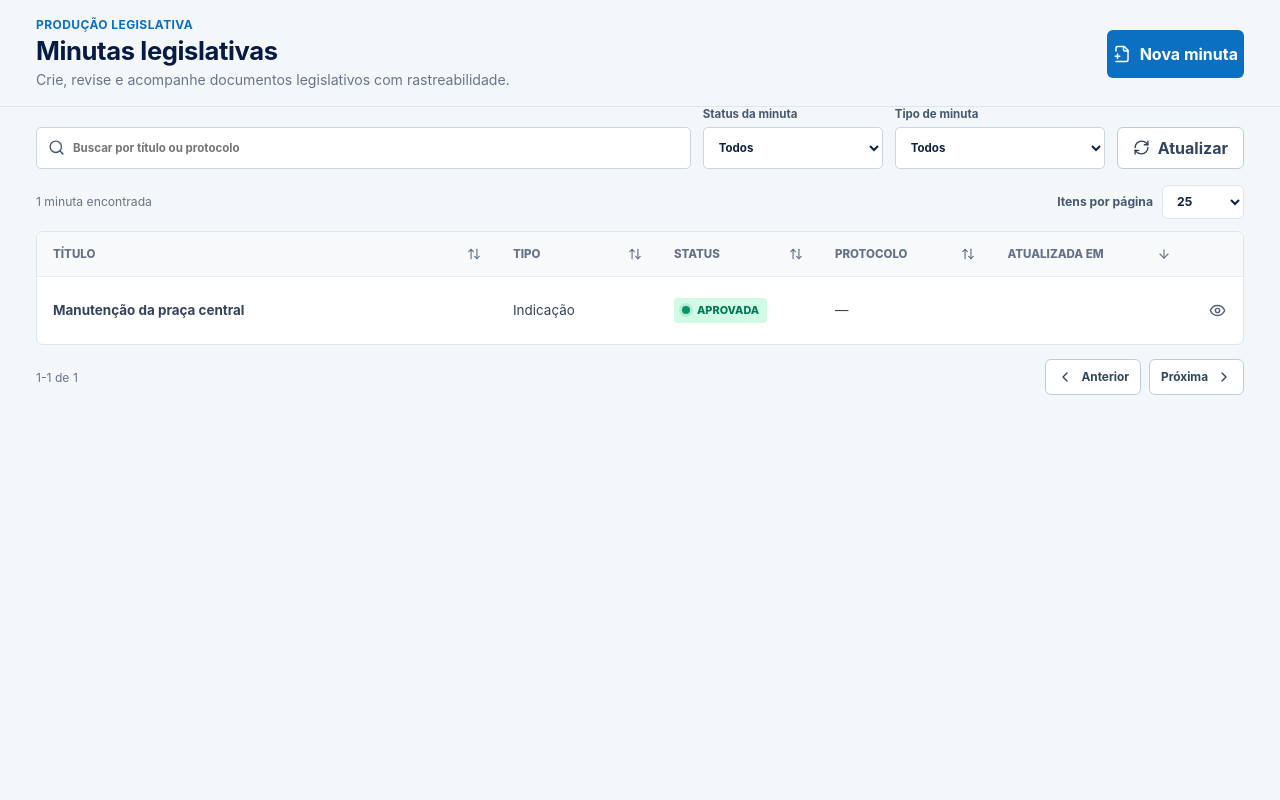
Test case: apresenta minuta, fundamentação pendente e protocolo somente manual
The width and height of the screenshot is (1280, 800).
Step 1. Click the text "Manutenção da praça central" → [149, 310], box [53, 302, 244, 318]
(page scrolled)
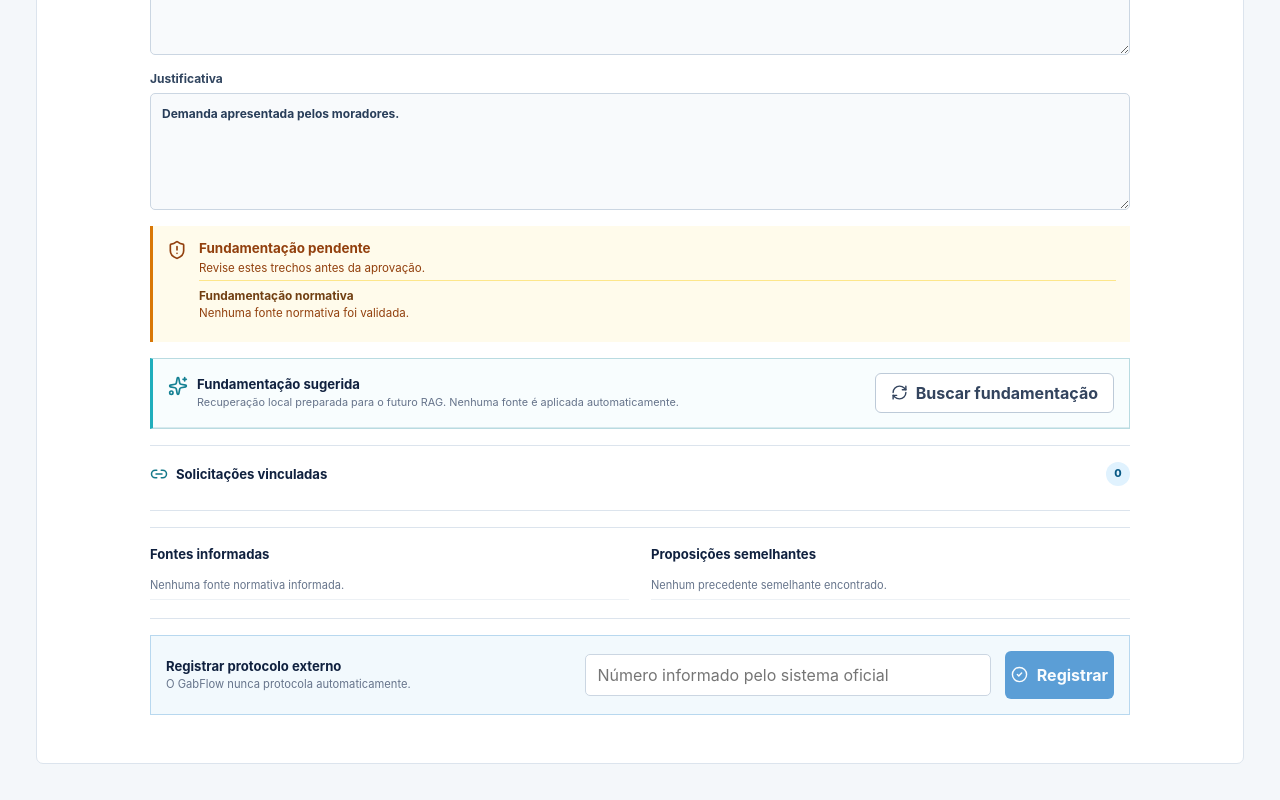
Now the heading "Fundamentação pendente" is shown, box [199, 240, 371, 256]
Now the text "O GabFlow nunca protocola automaticamente." is shown, box [166, 678, 411, 692]
Now the button "Registrar" is disabled, box [1005, 651, 1114, 699]
